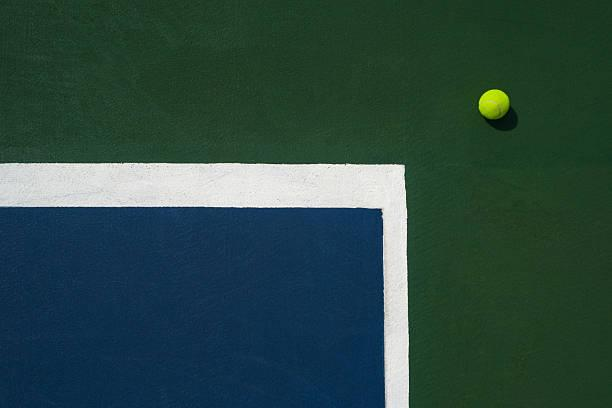ball_tennis: (478, 88, 511, 121)
